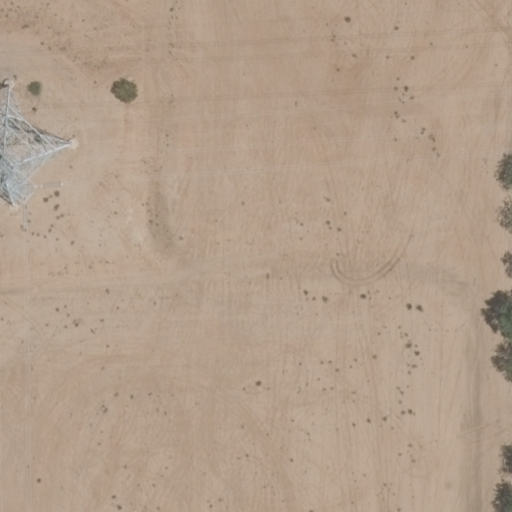TT: (1, 95, 64, 215)
